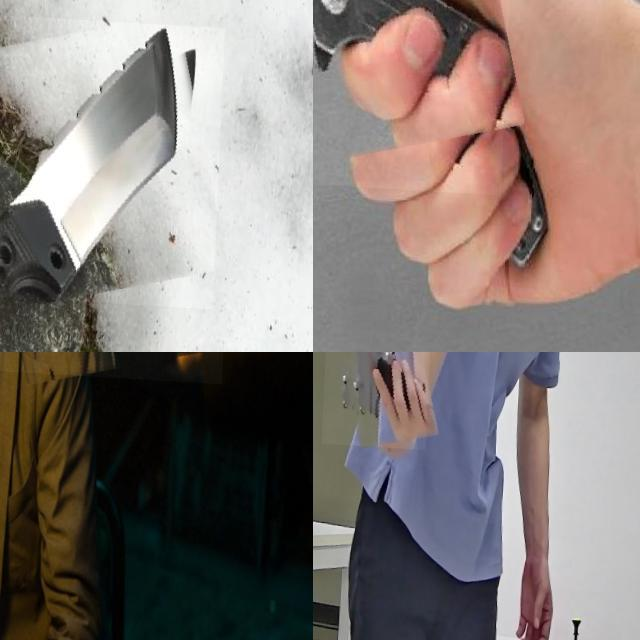-: (0, 10, 226, 303), (313, 0, 527, 223)
gun-knife-thesis - v11 Yolov5 augmented: (0, 352, 234, 494), (324, 352, 436, 463)
